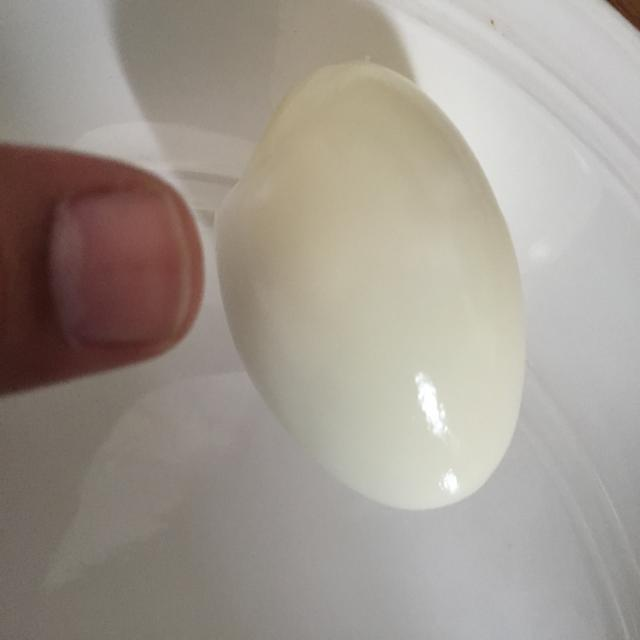Egg: (210, 45, 539, 518)
Finger: (0, 141, 208, 407)
